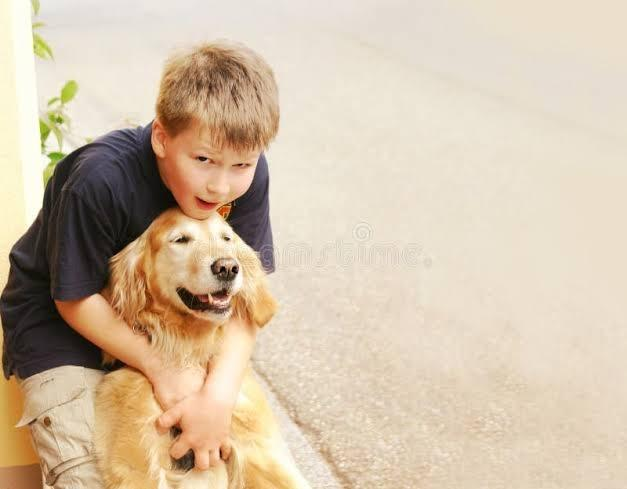adult_dog: (93, 208, 312, 489)
